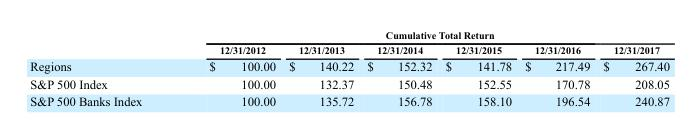table: (29, 28, 668, 108)
table column: (29, 28, 174, 108), (174, 28, 281, 108), (359, 28, 438, 108), (438, 28, 517, 108), (281, 28, 359, 108), (517, 28, 595, 108), (595, 28, 668, 108)
table column header: (29, 28, 668, 57)
table row: (29, 74, 668, 92), (29, 57, 668, 74), (29, 92, 668, 108), (29, 42, 668, 57), (29, 28, 668, 42)
table spanning cell: (174, 28, 668, 42)
